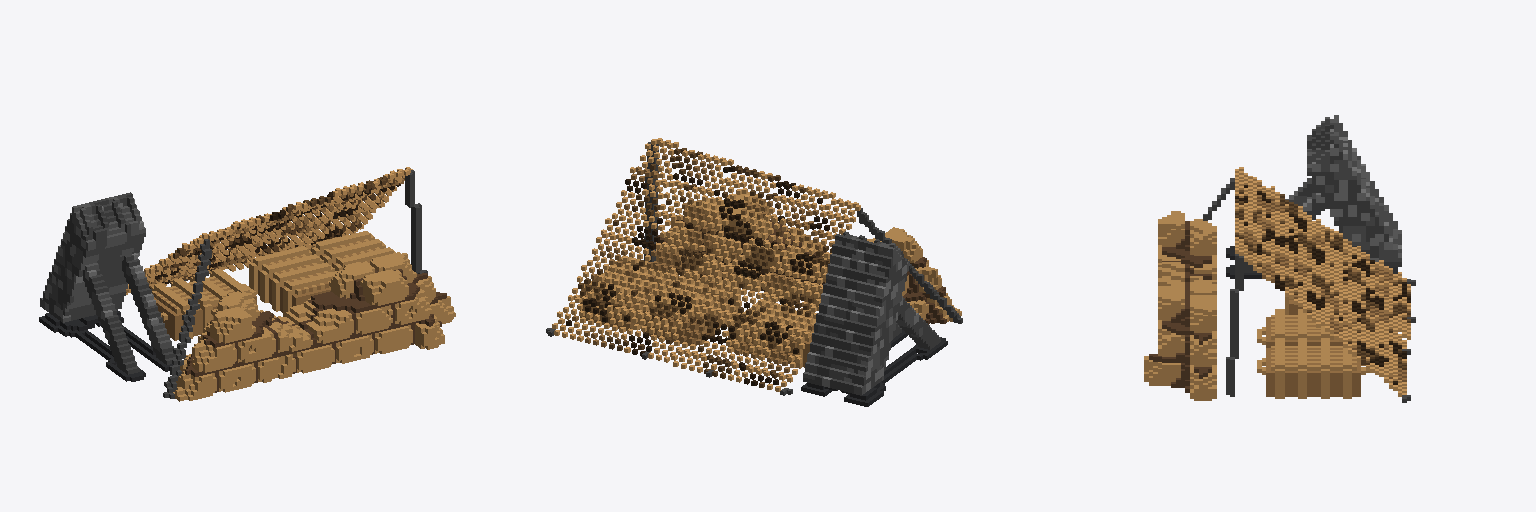
3 renders of one model, left to right at view 1: azimuth 30°, elevation 25°; view 2: azimuth 150°, elevation 25°; view 3: azimuth 270°, elevation 25°, orthographic.
Parts seen in each view (by area): view 1: object 1; view 2: object 1; view 3: object 1.
Part boxes in pixels (bbox=[...]): object 1: bbox=[39, 167, 455, 401]; object 1: bbox=[546, 138, 962, 406]; object 1: bbox=[1144, 115, 1415, 402].
Bounding box in the file's own units: 8.1 × 3.4 × 6.
Materials: 1 (1 with a texture image).